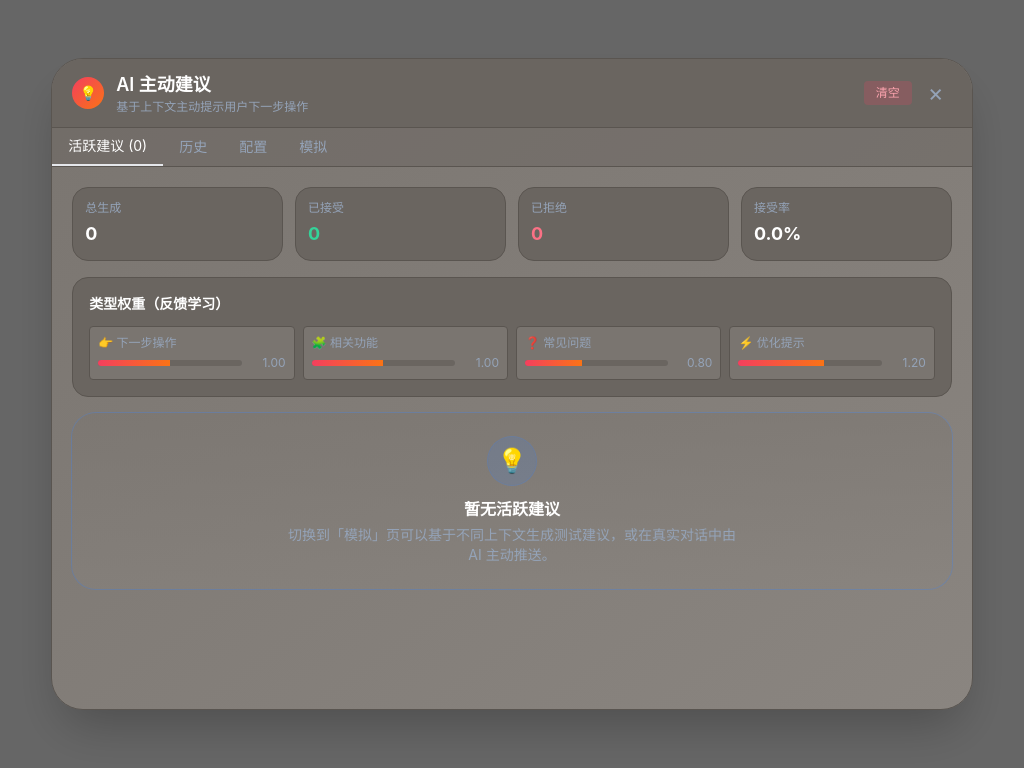
Test: ProactiveSuggestionPanel › 点击配置标签页应显示配置
Click the button with test id "suggestion-tab-config": (253,147) x1=223 y1=128 x2=283 y2=166
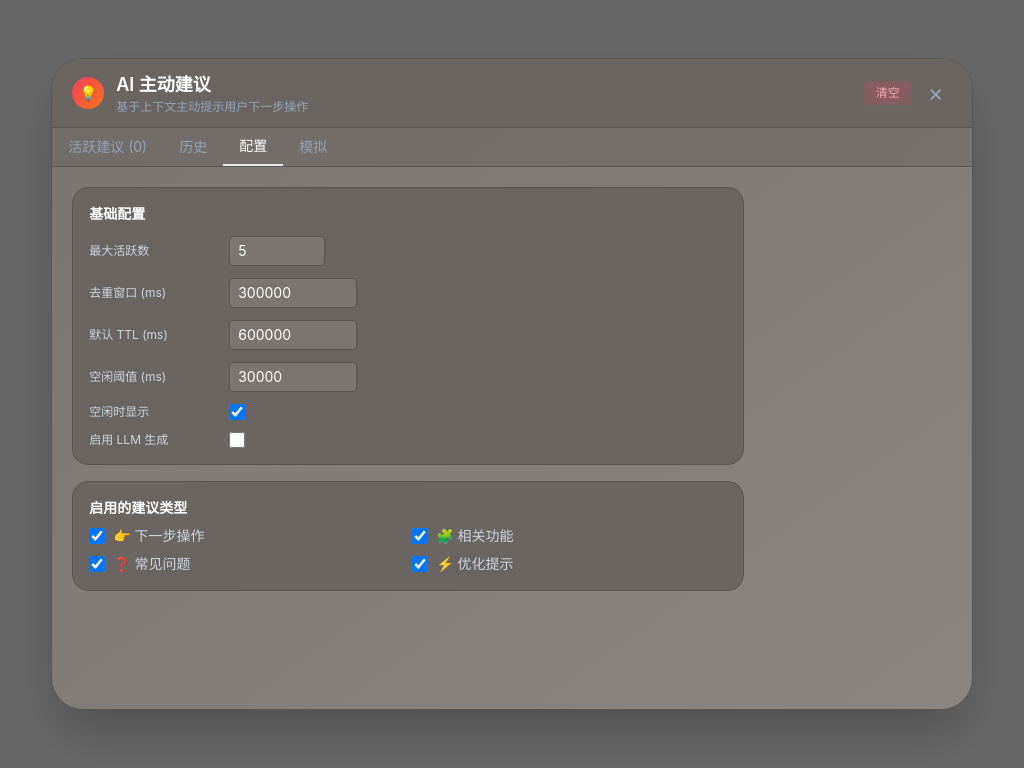
Check: the element with test id "suggestion-config" is shown, box x1=72 y1=187 x2=744 y2=591
Check: the number field with test id "config-max-active" is shown, box x1=229 y1=236 x2=325 y2=266
